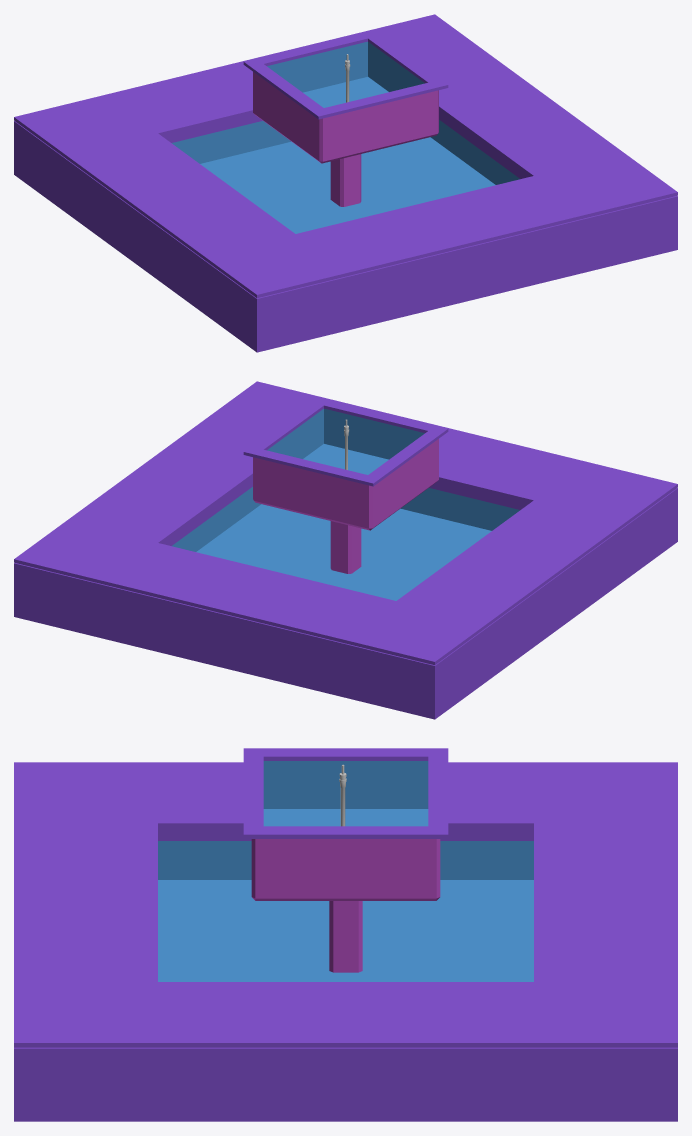
Rendered from fountain.fbx.
3 renders of one model, top to bottom at view 1: azimuth 30°, elevation 25°; view 2: azimuth 150°, elevation 25°; view 3: azimuth 270°, elevation 25°, orthographic. The views are drawn at different scales.
Parts seen in each view (by area): view 1: fountain; view 2: fountain; view 3: fountain.
Boxes of the visible parts, <box> form: fountain: <box>14,14,677,352</box>; fountain: <box>14,381,677,719</box>; fountain: <box>14,748,677,1121</box>.
Bounding box in the file's own units: 293 × 112 × 293.
